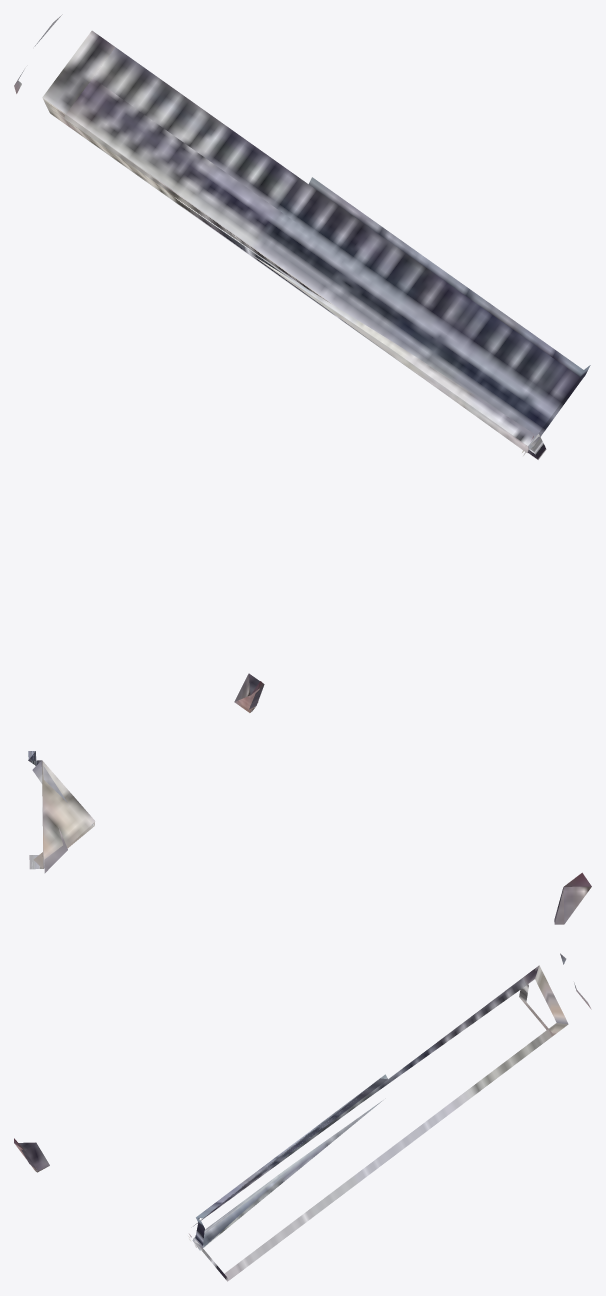
3 renders of one model, top to bottom at view 1: azimuth 30°, elevation 25°; view 2: azimuth 150°, elevation 25°; view 3: azimuth 270°, elevation 25°, orthographic. The views are drawn at different scales.
Bounding box in the file's own units: 68.67 × 54.48 × 100.
1 material, 1 textured.
